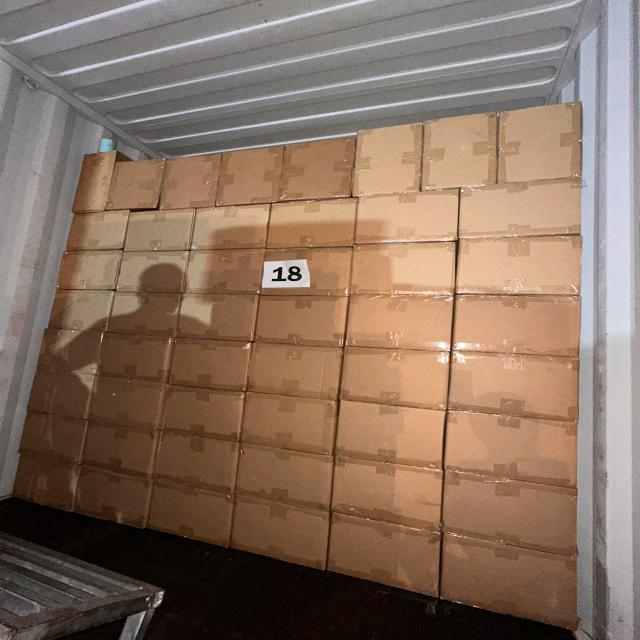Carton: (437, 528, 582, 630), (324, 508, 444, 600), (455, 355, 584, 423), (228, 489, 330, 571), (334, 452, 446, 525), (458, 292, 586, 355), (461, 237, 586, 299), (334, 399, 444, 469), (460, 178, 588, 236), (340, 348, 448, 410), (238, 444, 336, 511), (504, 104, 586, 183), (346, 296, 454, 354), (241, 391, 338, 454), (420, 114, 497, 192), (69, 460, 152, 532), (150, 482, 234, 550), (352, 191, 457, 245), (348, 243, 453, 297), (248, 343, 344, 400), (356, 120, 425, 196), (157, 434, 241, 496), (284, 134, 358, 200), (257, 298, 350, 349), (258, 249, 352, 297), (268, 199, 357, 248), (162, 386, 244, 439), (170, 340, 250, 392), (219, 144, 286, 205), (32, 324, 108, 376), (182, 249, 264, 296), (177, 296, 257, 344), (92, 379, 166, 429), (46, 286, 120, 334), (193, 204, 270, 250), (68, 150, 123, 213), (163, 151, 222, 208), (103, 334, 174, 381), (110, 291, 181, 335), (117, 251, 186, 295), (128, 209, 198, 250), (55, 250, 120, 292), (112, 160, 164, 212), (64, 210, 127, 250)
